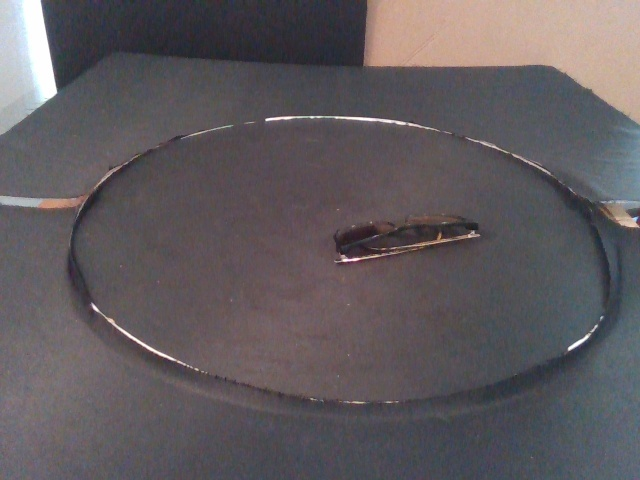glasses: (332, 212, 481, 265)
